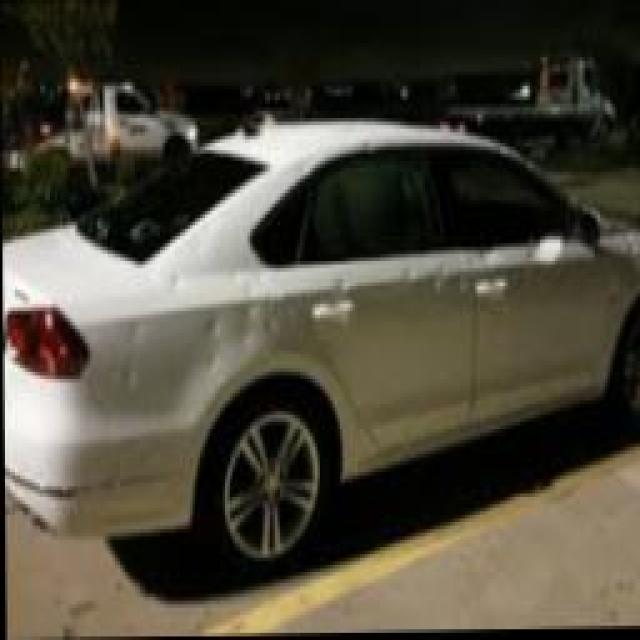rapairable: (187, 260, 312, 358), (398, 249, 544, 327), (87, 319, 171, 410)
